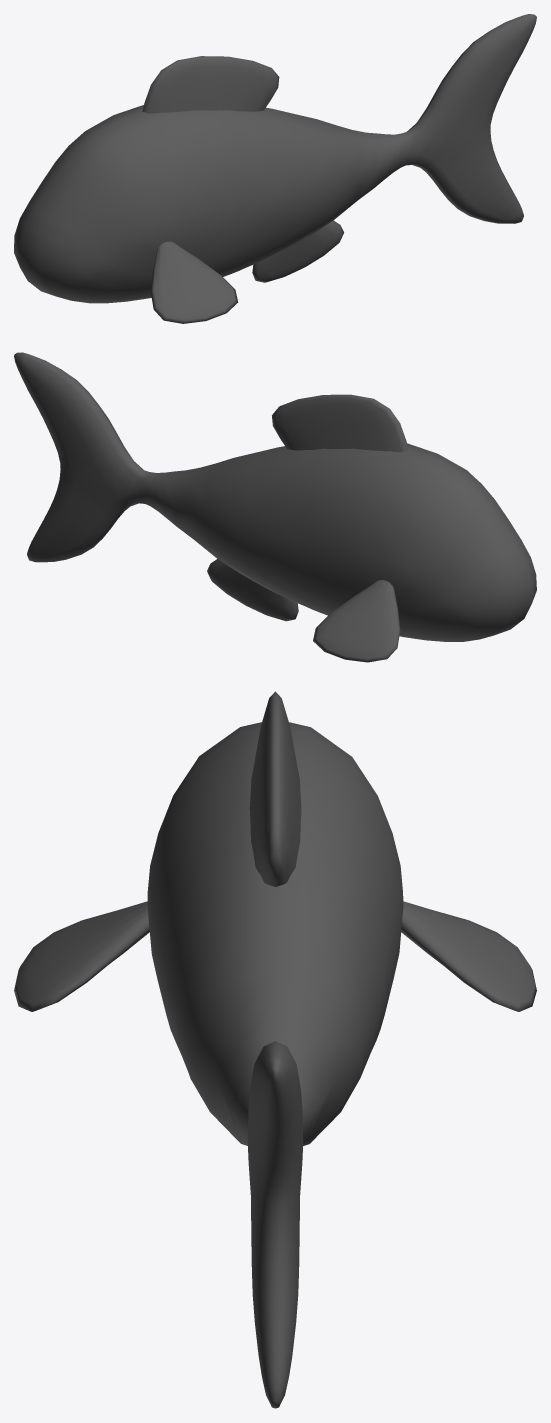
Rendered from Fish.glb.
The picture shows the model from 3 angles, top to bottom: view 1: azimuth 30°, elevation 25°; view 2: azimuth 150°, elevation 25°; view 3: azimuth 270°, elevation 25°; orthographic projection. The views are drawn at different scales.
Visible parts, largest first — view 1: mesh_id33; view 2: mesh_id33; view 3: mesh_id33.
Boxes of the visible parts, x1=… form: mesh_id33: x1=14, y1=14, x2=536, y2=323; mesh_id33: x1=14, y1=352, x2=536, y2=662; mesh_id33: x1=14, y1=691, x2=536, y2=1408.
Size of the model in its own units: 0.4987 by 0.2265 by 0.2525.
1 material, 1 textured.
